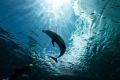fish: (40, 27, 69, 64)
